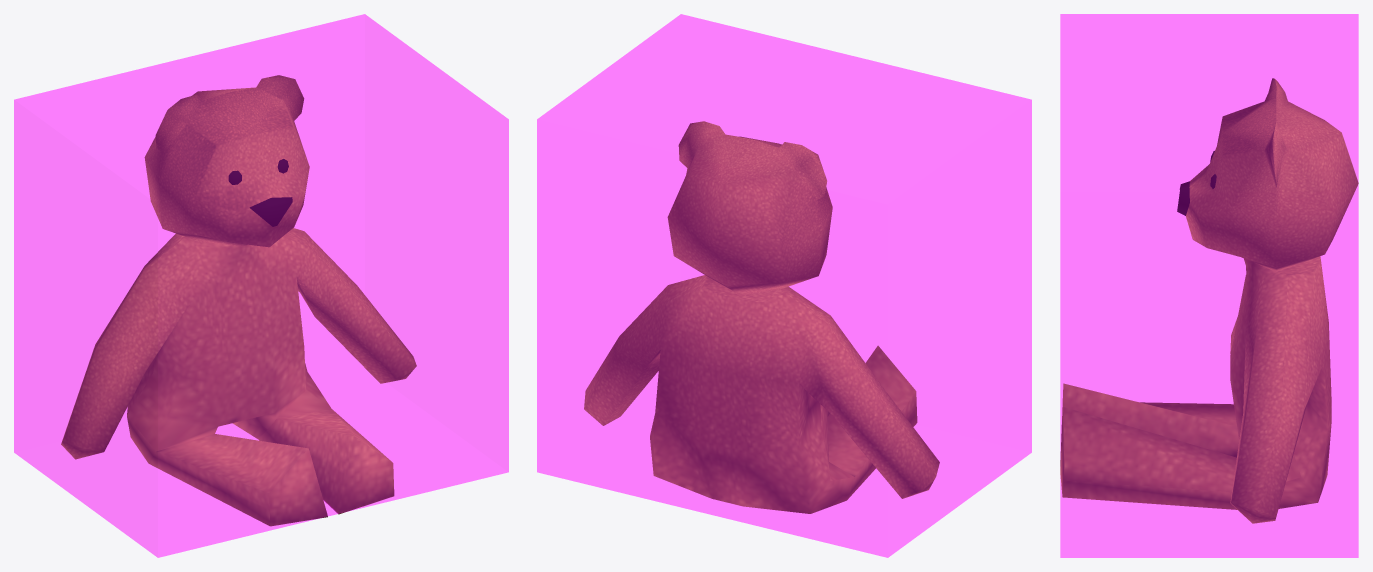
The model's file is doll_bear.fbx.
The picture shows the model from 3 angles, left to right: view 1: azimuth 30°, elevation 25°; view 2: azimuth 150°, elevation 25°; view 3: azimuth 270°, elevation 25°; orthographic projection. The views are drawn at different scales.
Parts seen in each view (by area): view 1: doll_bear_boundingBox, doll_bear; view 2: doll_bear_boundingBox, doll_bear; view 3: doll_bear_boundingBox, doll_bear.
Part boxes in pixels (x1,y1,x2,y2): doll_bear_boundingBox: (14, 14, 508, 557); doll_bear: (61, 75, 416, 526); doll_bear_boundingBox: (537, 14, 1031, 557); doll_bear: (584, 121, 939, 513); doll_bear_boundingBox: (1060, 14, 1358, 557); doll_bear: (1060, 78, 1358, 523).
Bounding box in the file's own units: 0.2057 × 0.1982 × 0.1461.
Materials: 2 (1 with a texture image).
